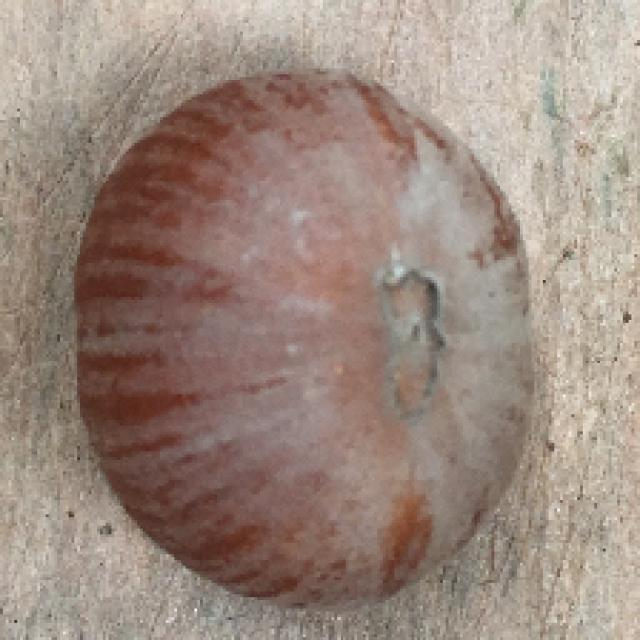hazelnut: (77, 59, 547, 597)
